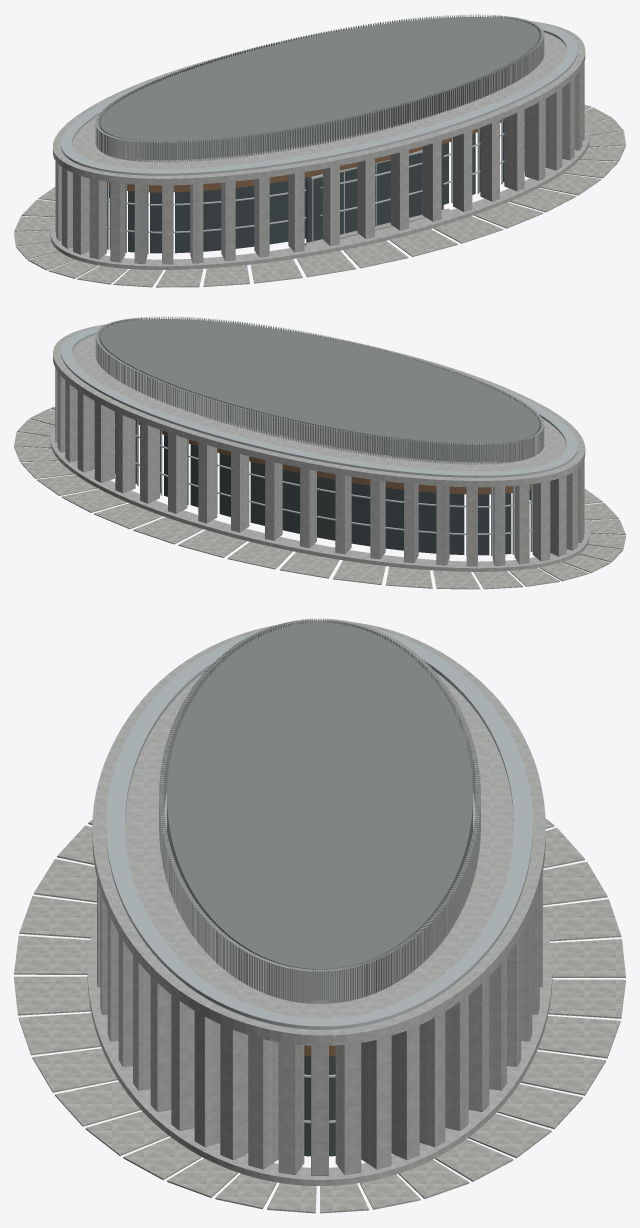
The model's file is architecture.main_colonnade.v1.glb.
3 renders of one model, top to bottom at view 1: azimuth 30°, elevation 25°; view 2: azimuth 150°, elevation 25°; view 3: azimuth 270°, elevation 25°, orthographic. The views are drawn at different scales.
Visible parts, largest first — view 1: Upper recessed clerestory, Upper vertical louver array, Continuous portico roof slab, colonnade_plinth, colonnade_roof_upper_trim, colonnade_roof_fascia, colonnade_entry_reveal, colonnade_column_39, colonnade_column_40, colonnade_column_37, colonnade_column_36, colonnade_column_38 (+50 smaller); view 2: Upper recessed clerestory, Upper vertical louver array, Continuous portico roof slab, colonnade_plinth, colonnade_roof_upper_trim, colonnade_roof_fascia, colonnade_column_07, colonnade_column_06, colonnade_column_10, colonnade_column_09, colonnade_column_08, colonnade_column_21 (+52 smaller); view 3: Upper recessed clerestory, Continuous portico roof slab, colonnade_roof_upper_trim, Upper vertical louver array, colonnade_plinth, colonnade_roof_fascia, colonnade_column_44, colonnade_column_02, colonnade_column_43, colonnade_column_03, colonnade_column_45, colonnade_column_01 (+42 smaller).
Part boxes in pixels (left/top/right/bottom): Upper recessed clerestory: left=100, top=17, right=539, bottom=160; Upper vertical louver array: left=95, top=14, right=544, bottom=162; Continuous portico roof slab: left=56, top=23, right=583, bottom=177; colonnade_plinth: left=50, top=125, right=589, bottom=269; colonnade_roof_upper_trim: left=61, top=23, right=577, bottom=175; colonnade_roof_fascia: left=53, top=21, right=585, bottom=184; colonnade_entry_reveal: left=306, top=147, right=443, bottom=242; colonnade_column_39: left=504, top=109, right=524, bottom=191; colonnade_column_40: left=525, top=99, right=545, bottom=180; colonnade_column_37: left=453, top=131, right=472, bottom=211; colonnade_column_36: left=422, top=141, right=441, bottom=221; colonnade_column_38: left=480, top=120, right=499, bottom=201; Upper recessed clerestory: left=100, top=319, right=539, bottom=462; Upper vertical louver array: left=95, top=316, right=544, bottom=464; Continuous portico roof slab: left=56, top=325, right=583, bottom=479; colonnade_plinth: left=50, top=427, right=589, bottom=571; colonnade_roof_upper_trim: left=61, top=326, right=577, bottom=477; colonnade_roof_fascia: left=53, top=324, right=585, bottom=487; colonnade_column_07: left=115, top=411, right=135, bottom=493; colonnade_column_06: left=94, top=401, right=114, bottom=482; colonnade_column_10: left=198, top=442, right=217, bottom=523; colonnade_column_09: left=168, top=432, right=187, bottom=513; colonnade_column_08: left=140, top=422, right=159, bottom=503; colonnade_column_21: left=532, top=481, right=550, bottom=561; Upper recessed clerestory: left=167, top=622, right=472, bottom=999; Continuous portico roof slab: left=97, top=622, right=542, bottom=1033; colonnade_roof_upper_trim: left=106, top=629, right=532, bottom=1029; Upper vertical louver array: left=159, top=618, right=480, bottom=1004; colonnade_plinth: left=87, top=912, right=552, bottom=1185; colonnade_roof_fascia: left=92, top=620, right=545, bottom=1045; colonnade_column_44: left=248, top=1034, right=278, bottom=1169; colonnade_column_02: left=361, top=1036, right=391, bottom=1169; colonnade_column_43: left=220, top=1024, right=248, bottom=1159; colonnade_column_03: left=391, top=1025, right=419, bottom=1159; colonnade_column_45: left=278, top=1041, right=304, bottom=1174; colonnade_column_01: left=335, top=1043, right=361, bottom=1174.
Size of the model in its own units: 59 by 10.69 by 32.4.
Materials: 11 (6 with a texture image).
